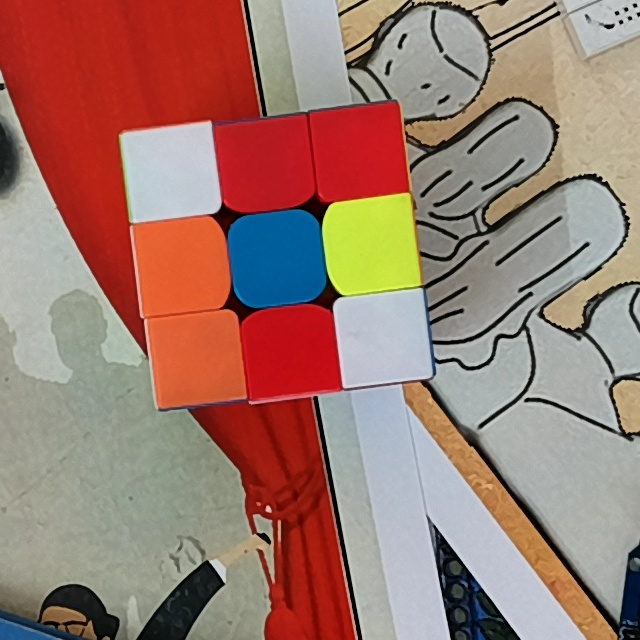tile: (153, 322, 238, 396), (141, 225, 222, 302), (322, 111, 400, 189), (250, 315, 332, 389), (130, 135, 210, 209), (226, 127, 305, 201), (346, 300, 424, 374), (335, 207, 410, 282), (238, 223, 316, 292)
